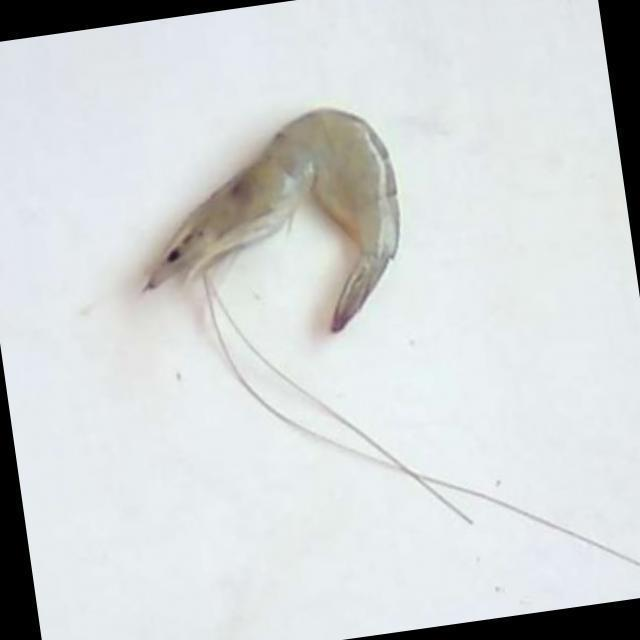shrimp: (143, 109, 400, 332)
